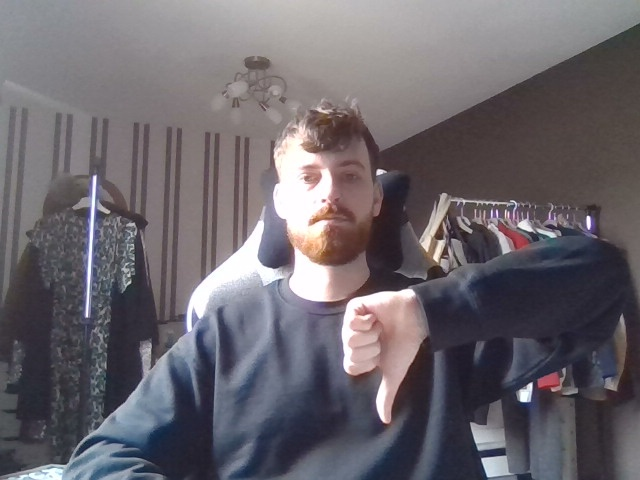Thumbs Down: (333, 278, 436, 439)
